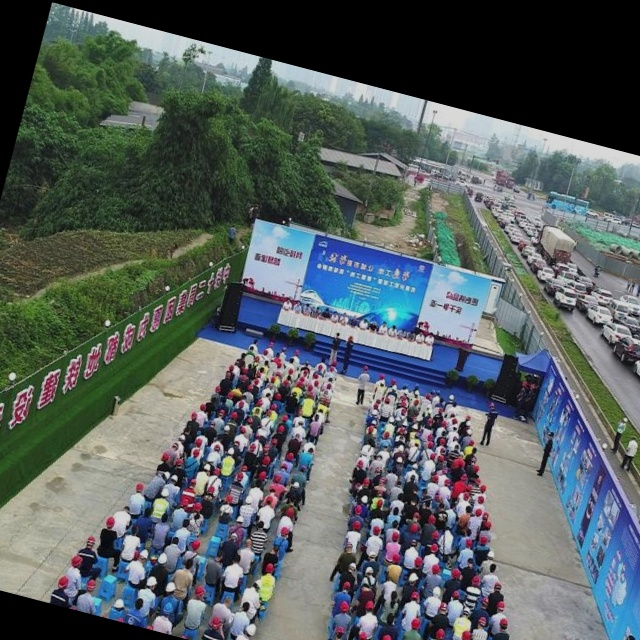Con_Chaleco: (257, 573, 277, 600), (150, 496, 169, 521), (219, 454, 235, 476)
Sin_Chaleco: (250, 529, 268, 554), (238, 547, 254, 571)
